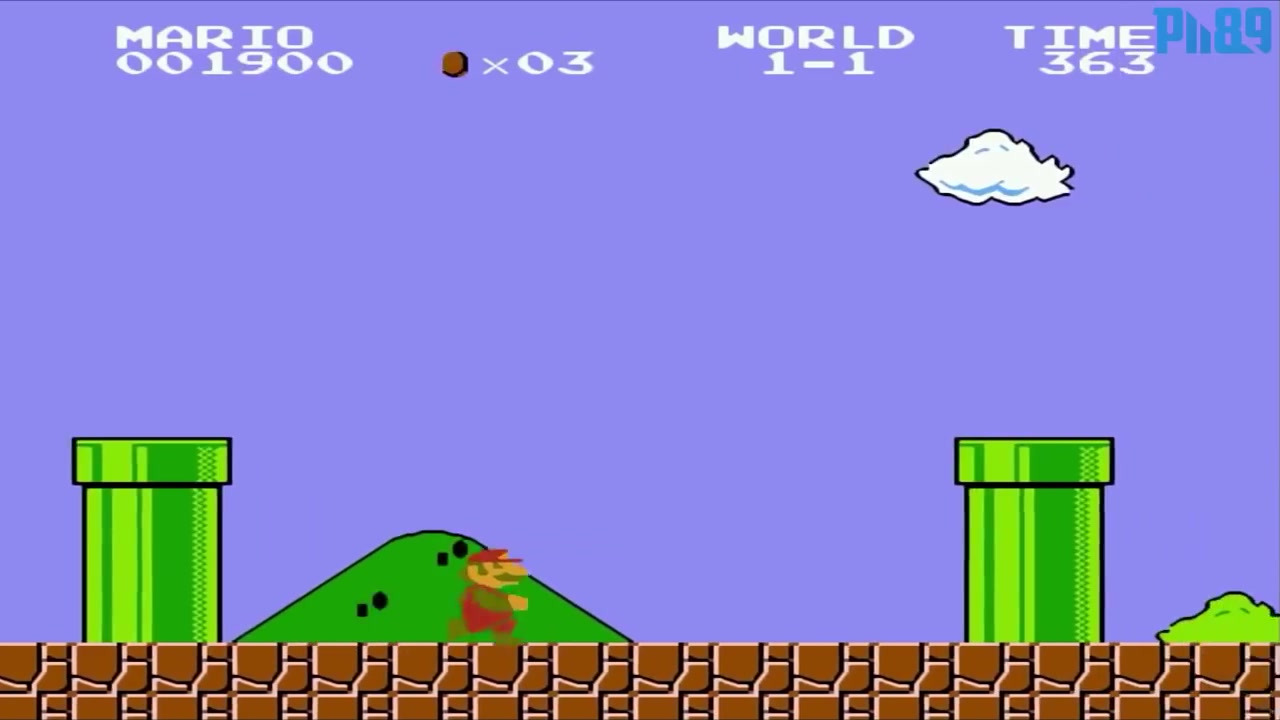mario: (447, 539, 535, 652)
